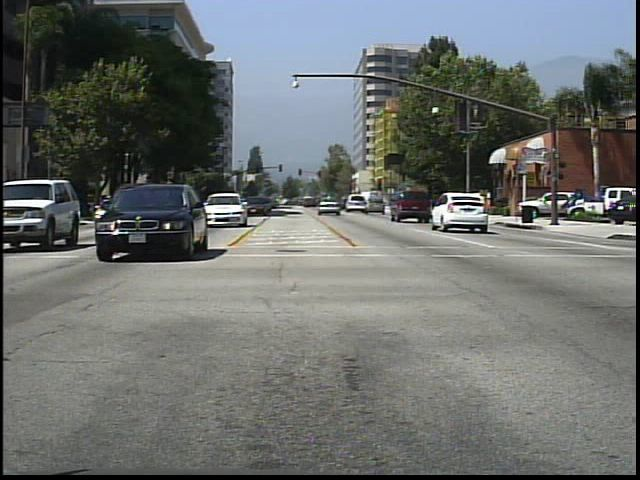person: (473, 190, 488, 218)
